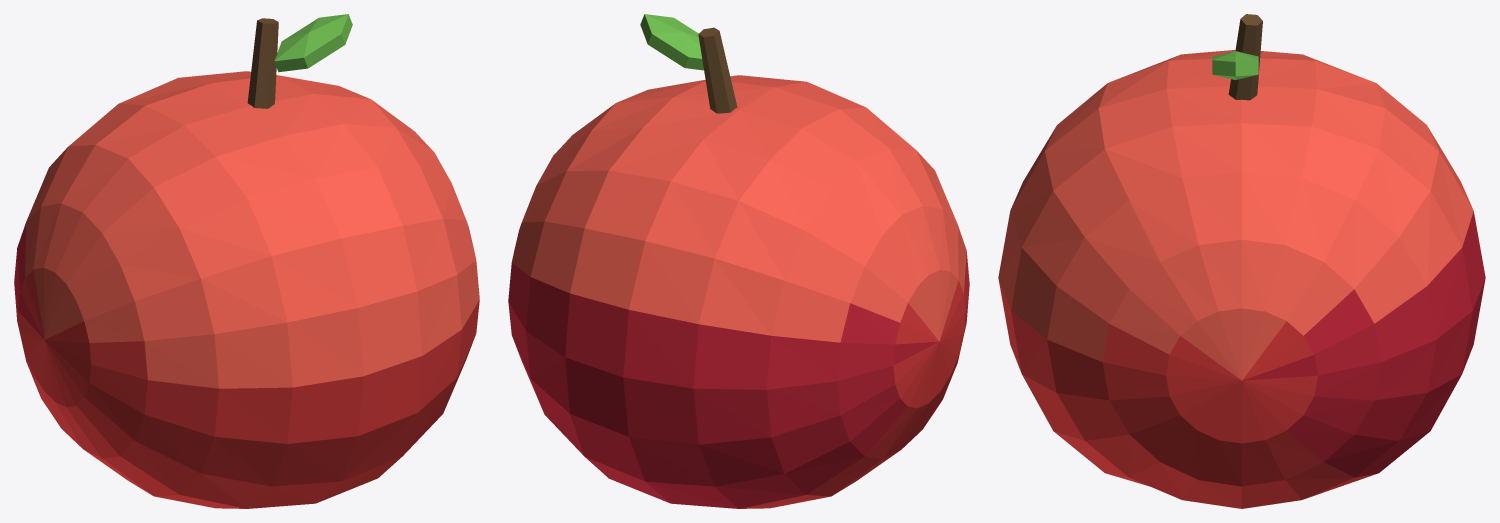
The model's file is jablko.glb.
3 renders of one model, left to right at view 1: azimuth 30°, elevation 25°; view 2: azimuth 150°, elevation 25°; view 3: azimuth 270°, elevation 25°, orthographic. The views are drawn at different scales.
Visible parts, largest first — view 1: half_b_apple_highlight, half_b_apple_skin, half_a_apple_highlight, half_a_apple_skin, half_a_leaf, half_a_stem, half_b_apple_shadow; view 2: half_b_apple_highlight, half_b_apple_shadow, half_a_apple_highlight, half_a_apple_shadow, half_b_apple_skin, half_a_leaf, half_a_stem; view 3: half_a_apple_highlight, half_a_apple_skin, half_a_apple_shadow, half_b_apple_highlight, half_a_stem, half_a_leaf.
Boxes of the visible parts, box(x1,y1,x2,y2) form: half_b_apple_highlight: box(25, 78, 363, 388); half_b_apple_skin: box(18, 270, 363, 508); half_a_apple_highlight: box(178, 71, 479, 375); half_a_apple_skin: box(316, 300, 479, 503); half_a_leaf: box(274, 14, 352, 72); half_a_stem: box(247, 18, 278, 108); half_b_apple_shadow: box(14, 222, 43, 396); half_b_apple_highlight: box(629, 82, 966, 342); half_b_apple_shadow: box(623, 303, 938, 508); half_a_apple_highlight: box(512, 75, 806, 309); half_a_apple_shadow: box(508, 224, 670, 503); half_b_apple_skin: box(739, 252, 969, 508); half_a_leaf: box(640, 14, 703, 70); half_a_stem: box(698, 27, 737, 113); half_a_apple_highlight: box(998, 86, 1473, 380); half_a_apple_skin: box(998, 279, 1377, 508); half_a_apple_shadow: box(1243, 211, 1485, 477); half_b_apple_highlight: box(1011, 50, 1472, 208); half_a_stem: box(1228, 14, 1262, 100); half_a_leaf: box(1212, 51, 1258, 79).
Bounding box in the file's own units: 0.3 × 0.3157 × 0.3.
